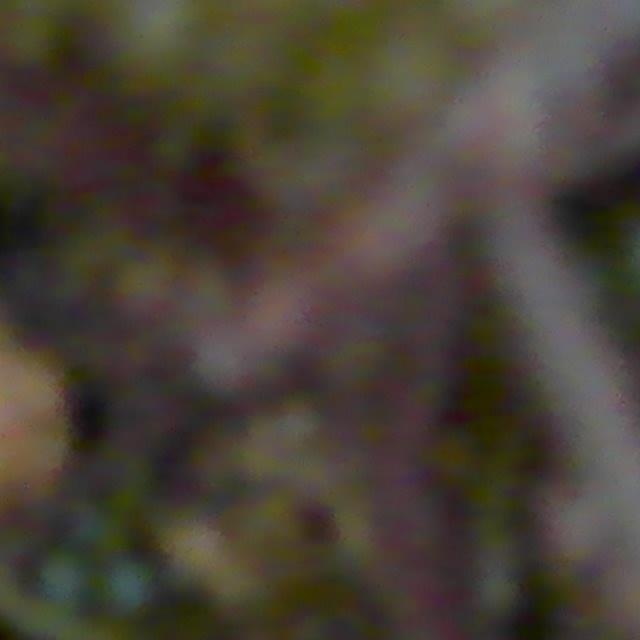SeaGrape: (0, 10, 62, 72), (36, 549, 93, 608), (99, 557, 155, 614)
